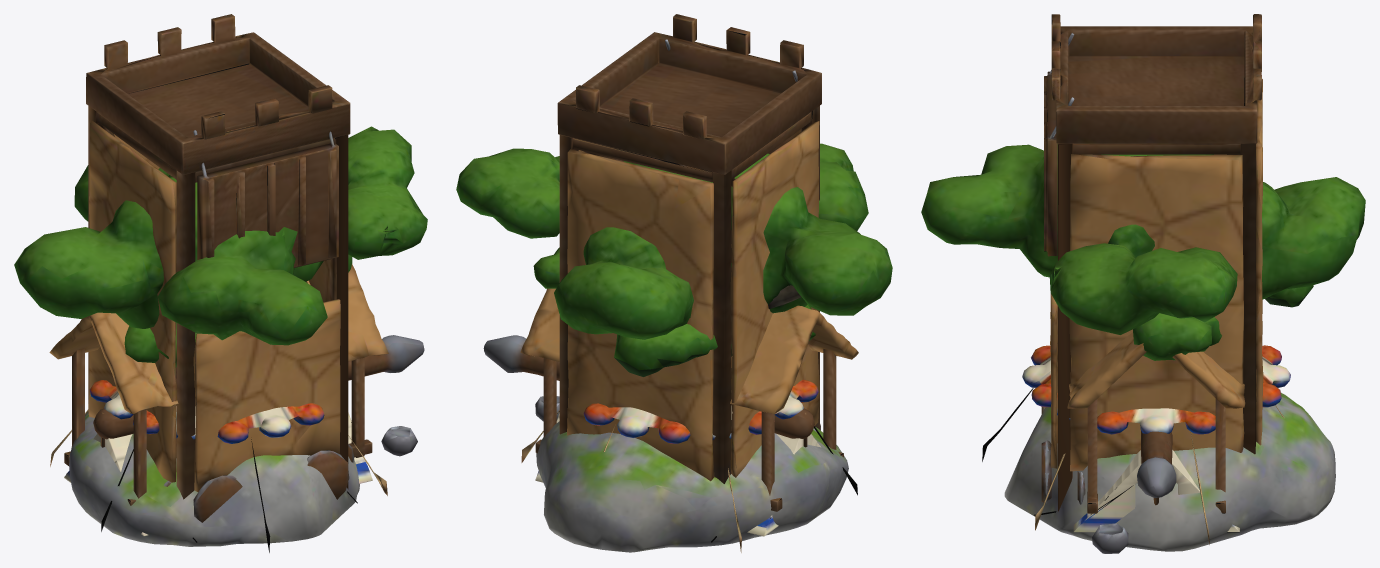
The model's file is medieval_decor_castle.glb.
3 renders of one model, left to right at view 1: azimuth 30°, elevation 25°; view 2: azimuth 150°, elevation 25°; view 3: azimuth 270°, elevation 25°, orthographic. The views are drawn at different scales.
Visible parts, largest first — view 1: Tower, Oak_A, Rock_C, Ram, Tent_A, Tent_B, Oak_B; view 2: Tower, Oak_A, Rock_C, Ram, Oak_B, Tent_A, Tent_B; view 3: Tower, Oak_A, Rock_C, Ram, Tent_A, Tent_B, Oak_B.
Boxes of the visible parts, x1,y1,x2,y2 form: Tower: (86,14,350,522); Oak_A: (14,126,427,345); Rock_C: (69,412,359,546); Ram: (49,264,424,505); Tent_A: (50,380,387,552); Tent_B: (64,412,417,542); Oak_B: (124,255,352,367); Tower: (557,14,821,483); Oak_A: (456,143,892,339); Rock_C: (536,421,848,552); Ram: (483,288,858,511); Oak_B: (533,247,815,376); Tent_A: (521,379,857,552); Tent_B: (535,396,821,542); Tower: (1041,14,1263,511); Oak_A: (921,144,1365,334); Rock_C: (1004,392,1335,551); Ram: (1067,332,1245,513); Tent_A: (982,345,1290,544); Tent_B: (1034,450,1239,553); Oak_B: (1133,285,1313,360).
Size of the model in its own units: 3.18 by 3.37 by 2.91.
1 material, 1 textured.
